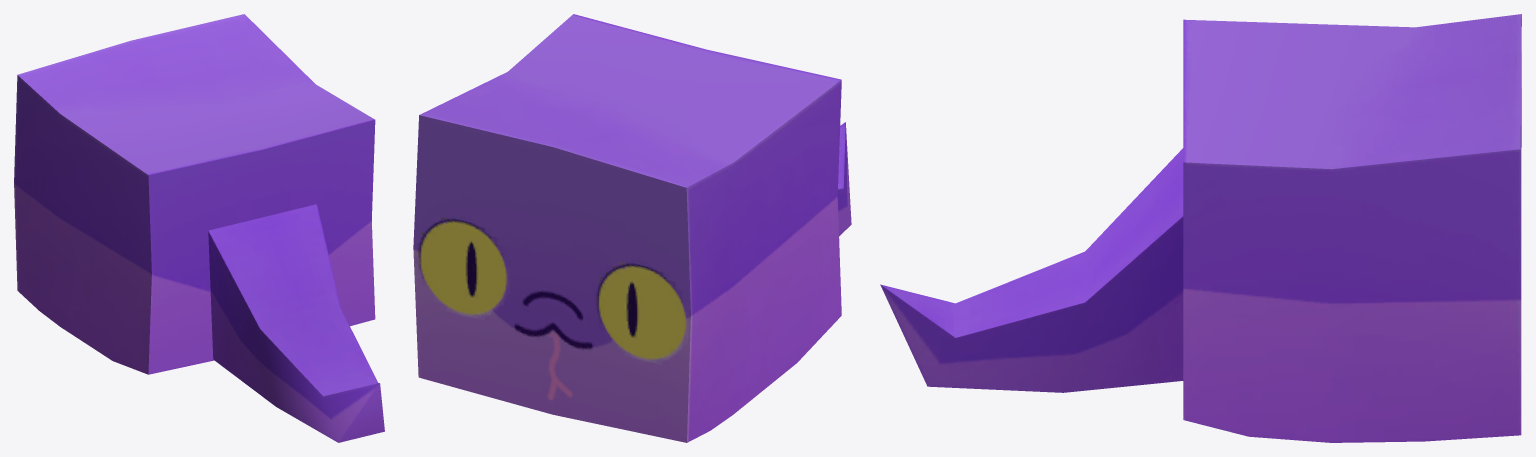
File: rare1.glb
3 views of the same model, side by side, from view 1: azimuth 30°, elevation 25°; view 2: azimuth 150°, elevation 25°; view 3: azimuth 270°, elevation 25° (orthographic). The views are drawn at different scales.
Parts seen in each view (by area): view 1: Pets.174; view 2: Pets.174; view 3: Pets.174.
Part boxes in pixels (<box>): Pets.174: <box>14,14,384,442</box>; Pets.174: <box>413,14,851,442</box>; Pets.174: <box>880,14,1521,442</box>.
Bounding box in the file's own units: 1.77 × 1.66 × 3.25.
1 material, 1 textured.
